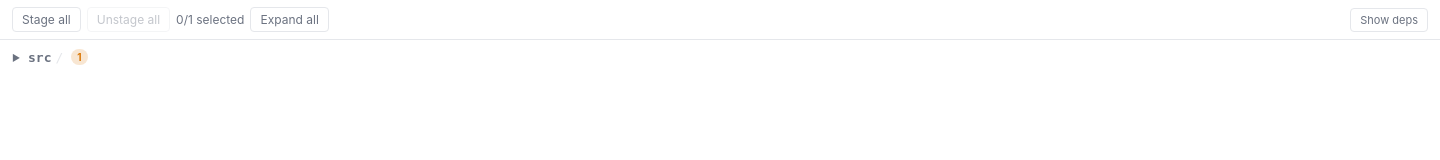
Test: FileManager untracked review visibility › expands and collapses every visible folder from the toolbar
Expected: the text "App.tsx" is not shown
Click the button "Expand all": point(290, 20) [250,7,329,32]
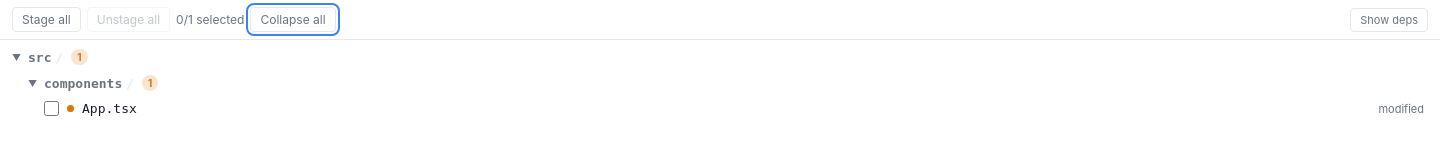
Expected: the text "App.tsx" is shown, [82,101,137,116]
Click the button "Collapse all": point(293, 20) [250,7,336,32]
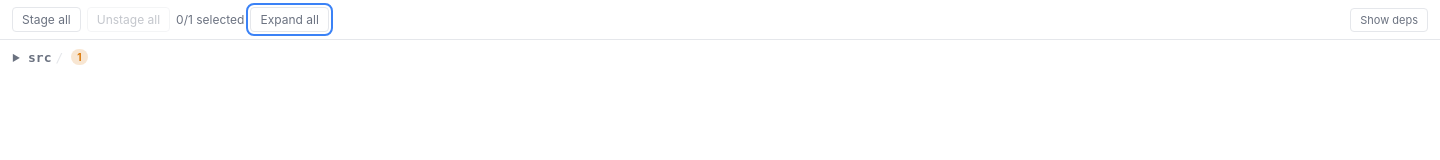
Expected: the button "App.tsx" is gone
